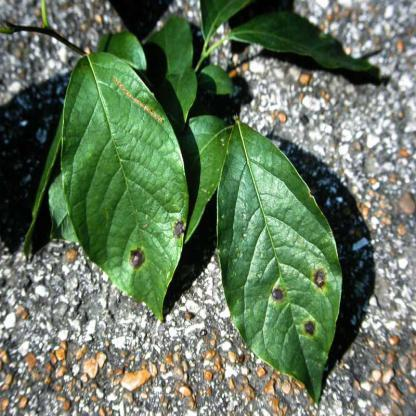Tomato leaf late blight: (212, 118, 359, 414), (58, 51, 198, 328)
